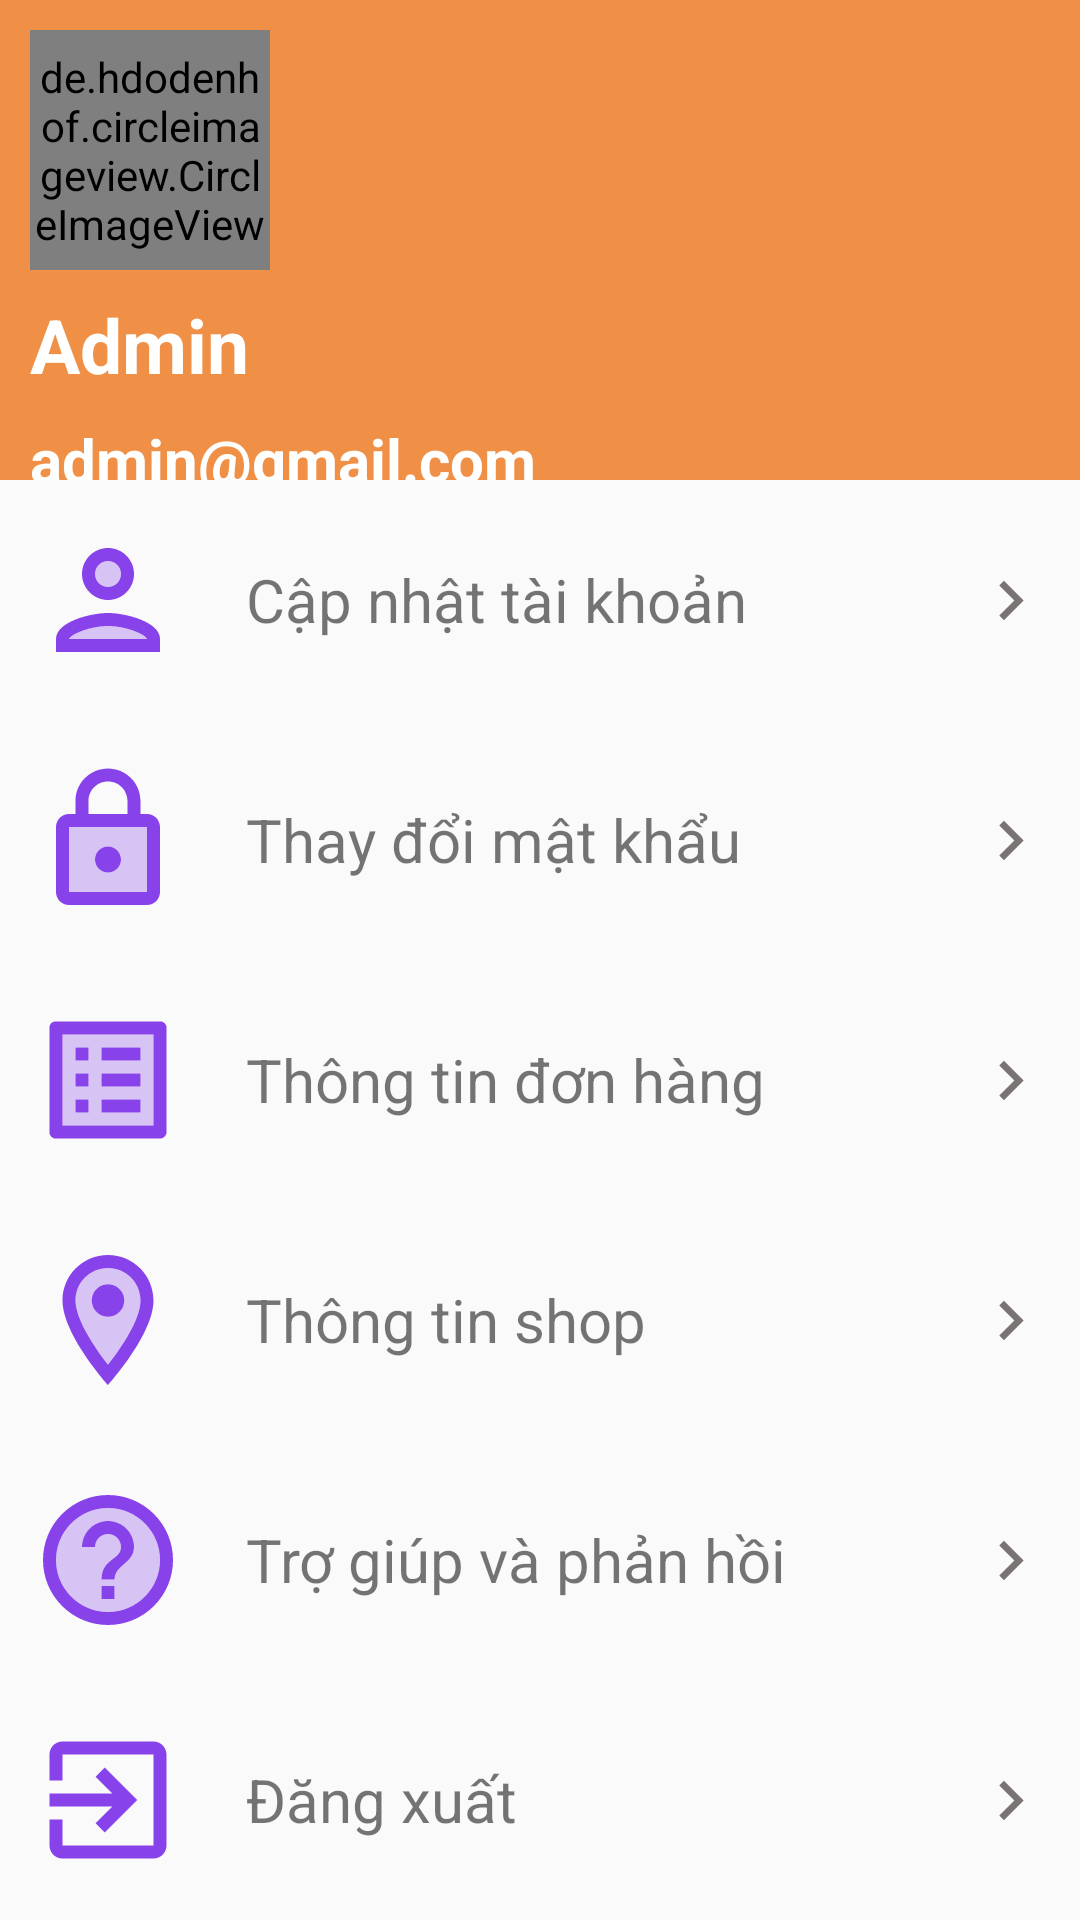

Icons on this 1080*1920 Android screen, each with its box as region(x1, y1, x2, y2):
capnhattk: region(56, 548, 160, 652)
donhang: region(49, 1021, 167, 1139)
help: region(43, 1495, 173, 1625)
icthaydoimk: region(56, 768, 160, 905)
location: region(62, 1255, 154, 1385)
next: region(999, 581, 1024, 620), region(999, 821, 1024, 860), region(999, 1061, 1024, 1100), region(999, 1301, 1024, 1340), region(999, 1541, 1024, 1580), region(999, 1781, 1024, 1820)
sign out: region(49, 1741, 167, 1859)
